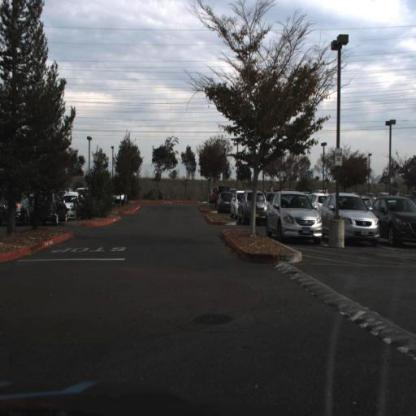car: (266, 190, 323, 245), (322, 193, 381, 245), (378, 196, 416, 250), (33, 190, 67, 226), (238, 191, 266, 226), (3, 192, 28, 228), (67, 194, 80, 225), (217, 192, 233, 215), (230, 191, 242, 220)
